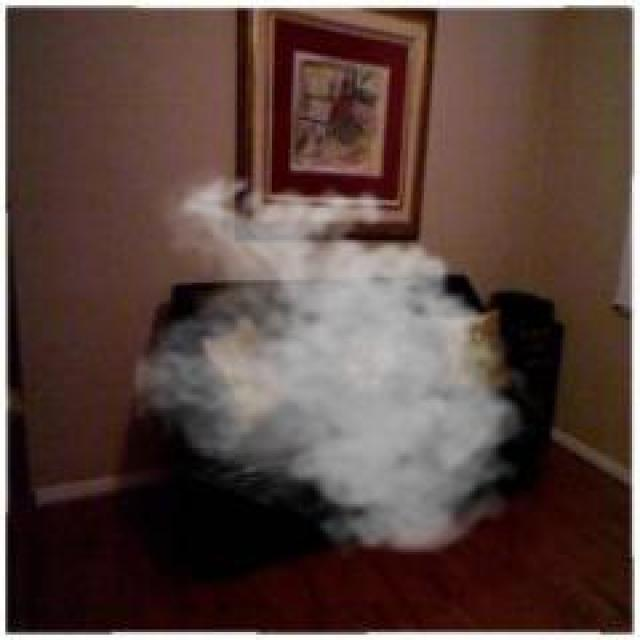smoke: (132, 162, 537, 562)
